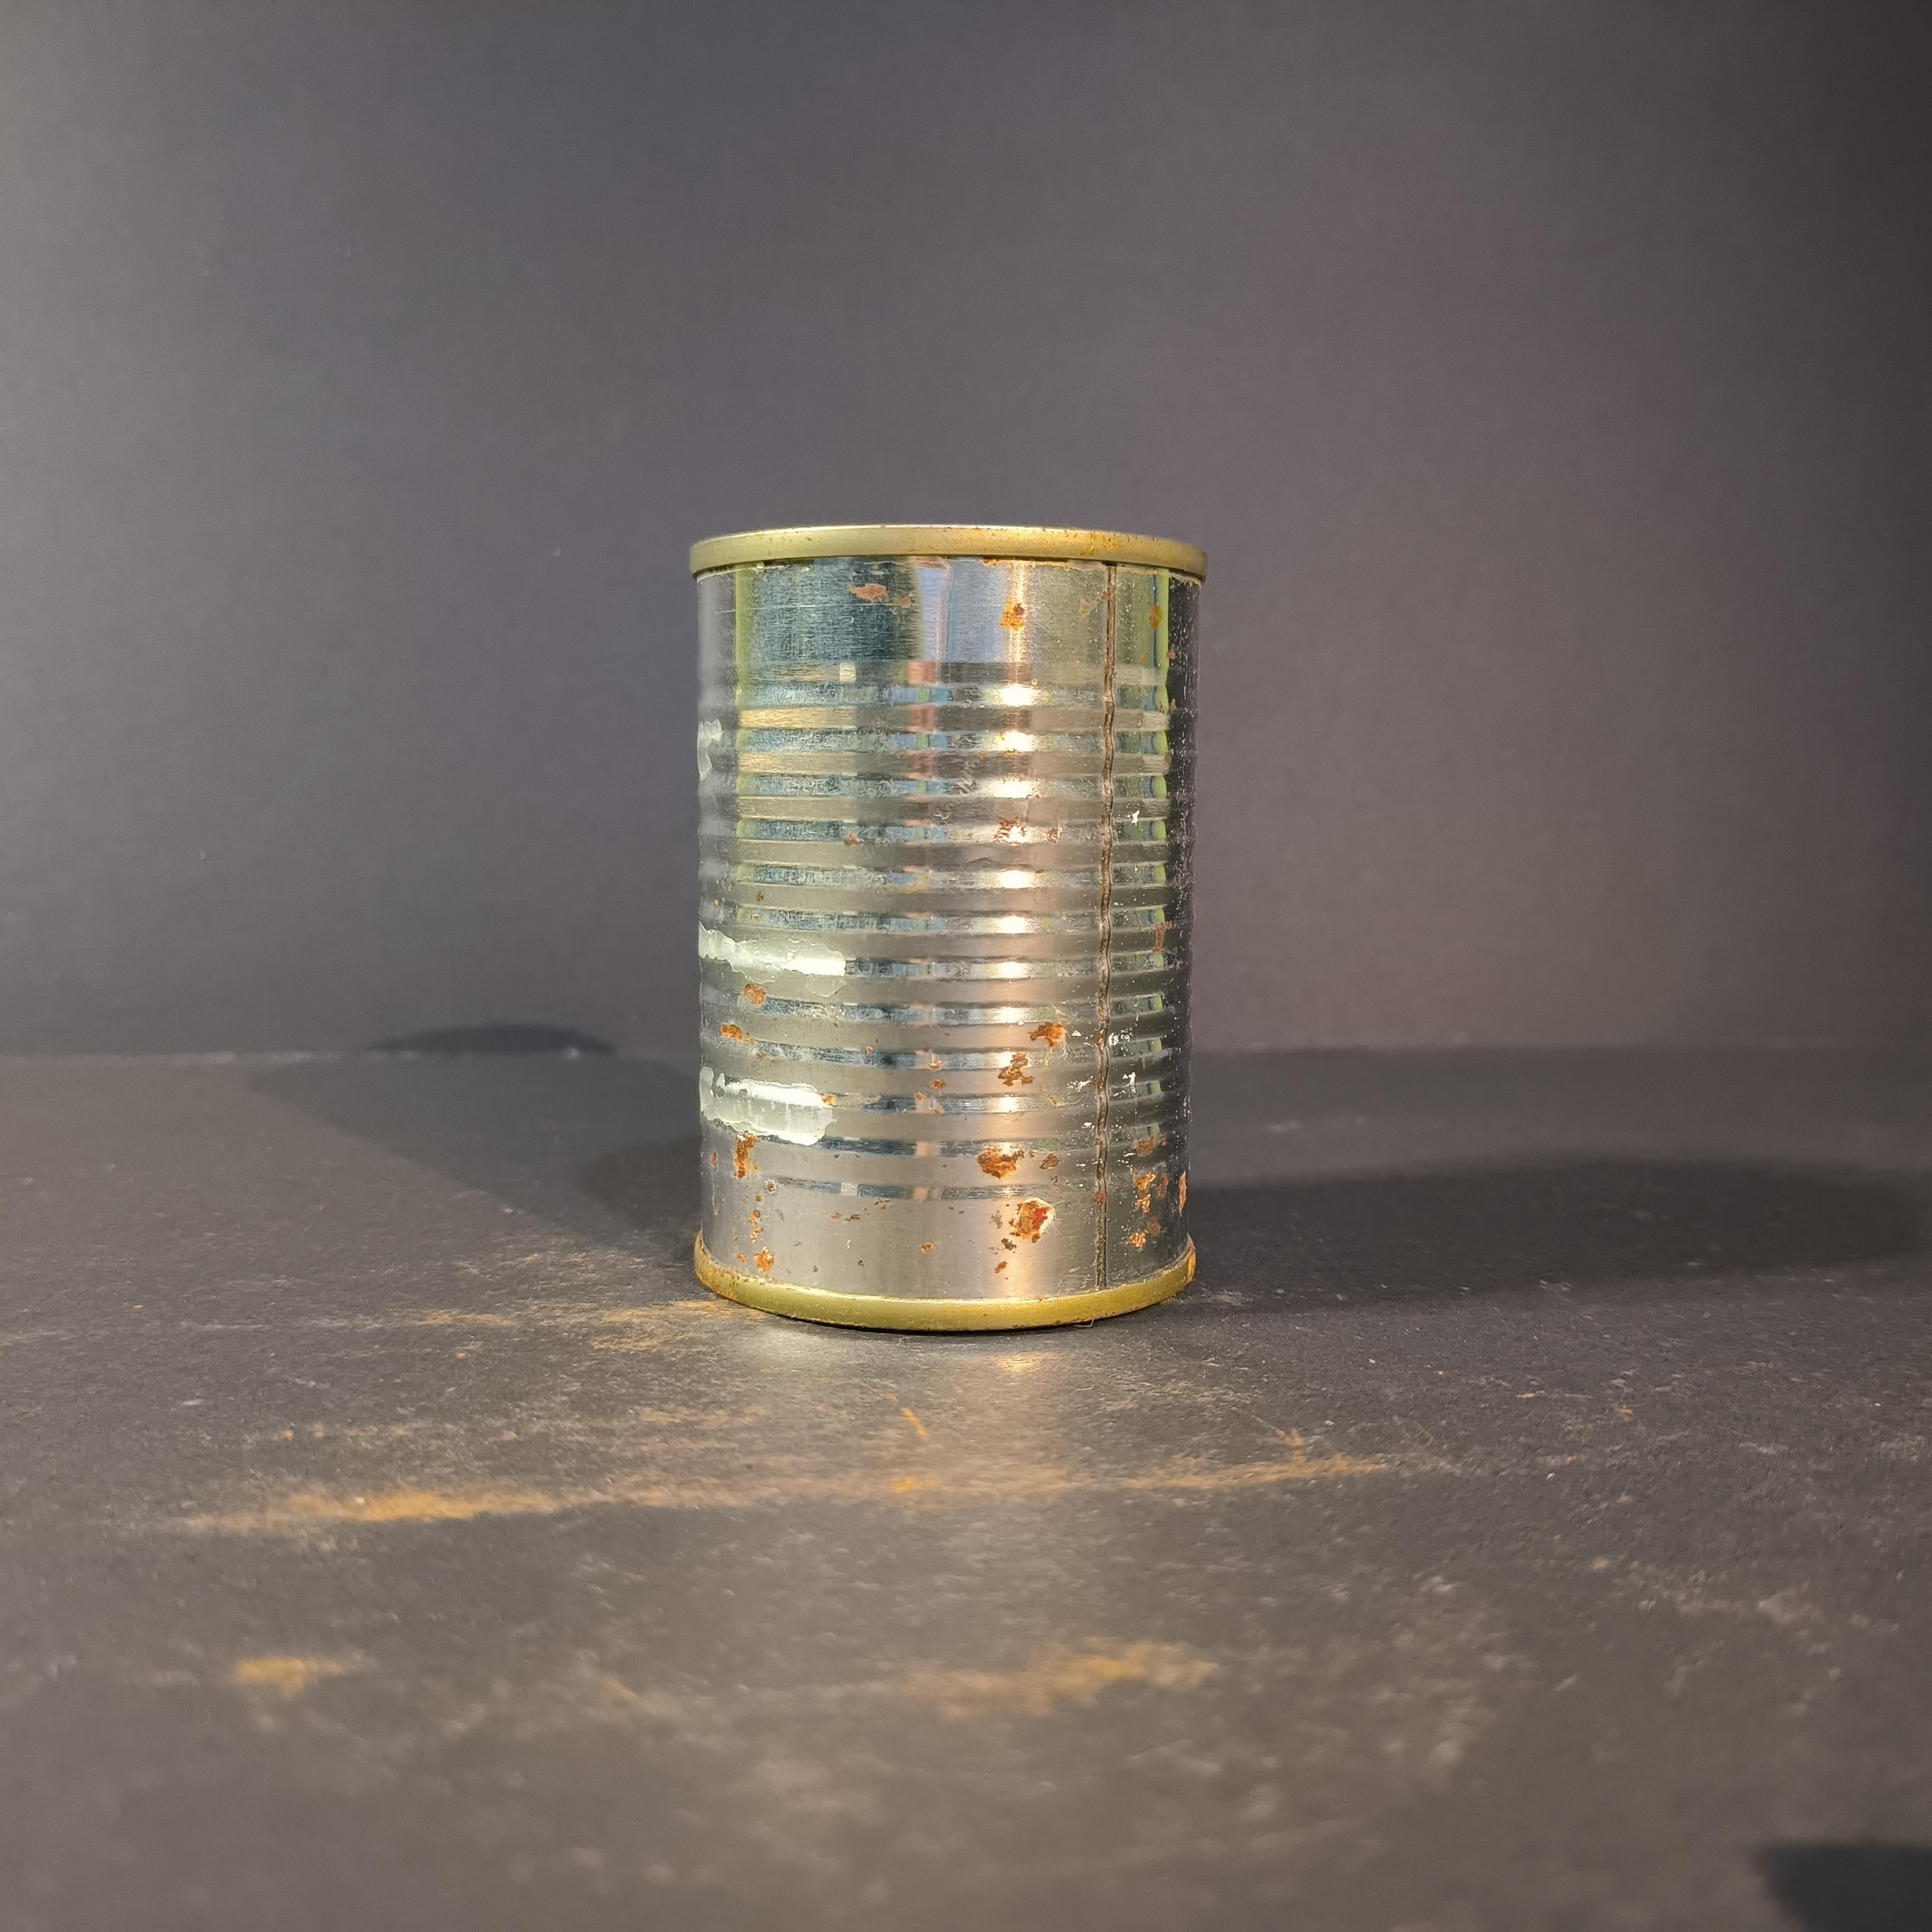Rusted: (674, 497, 1224, 1332)
